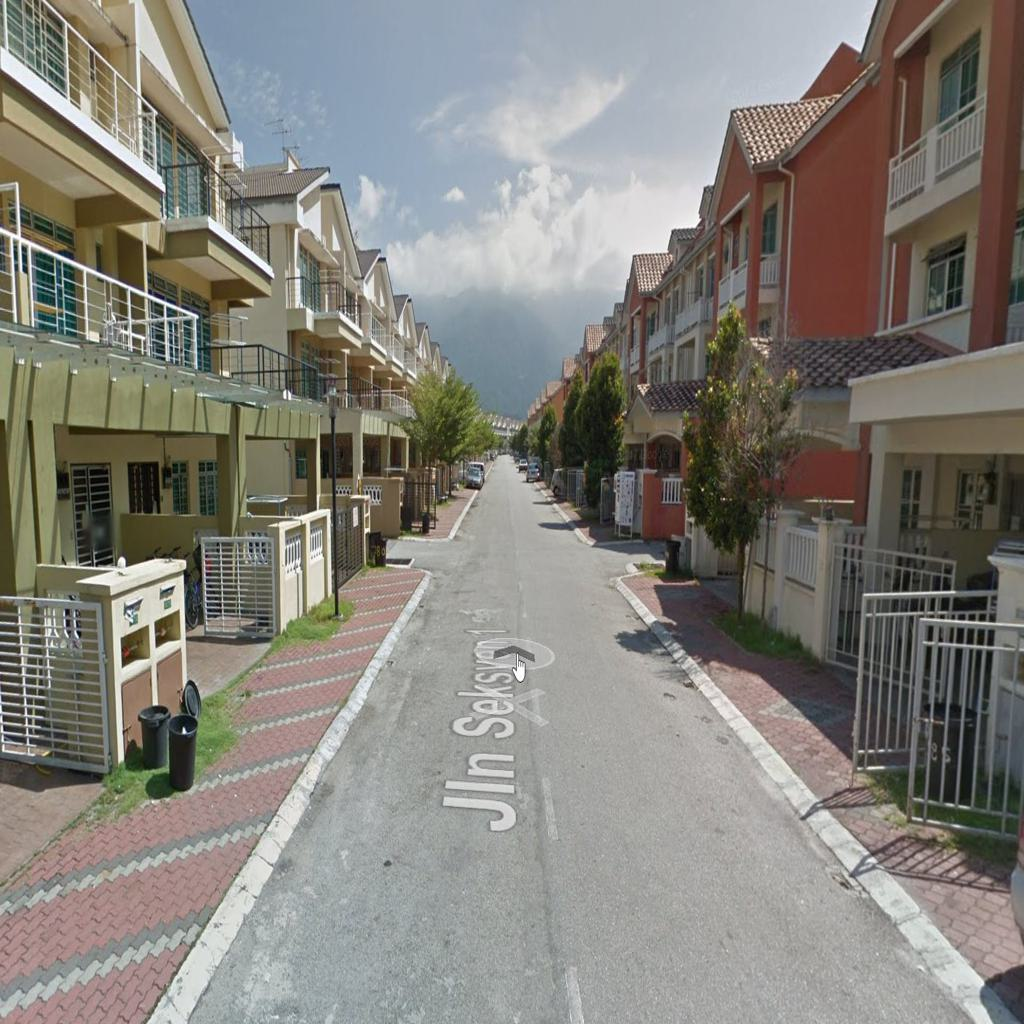Junction: (564, 507, 677, 600), (369, 506, 453, 588)
